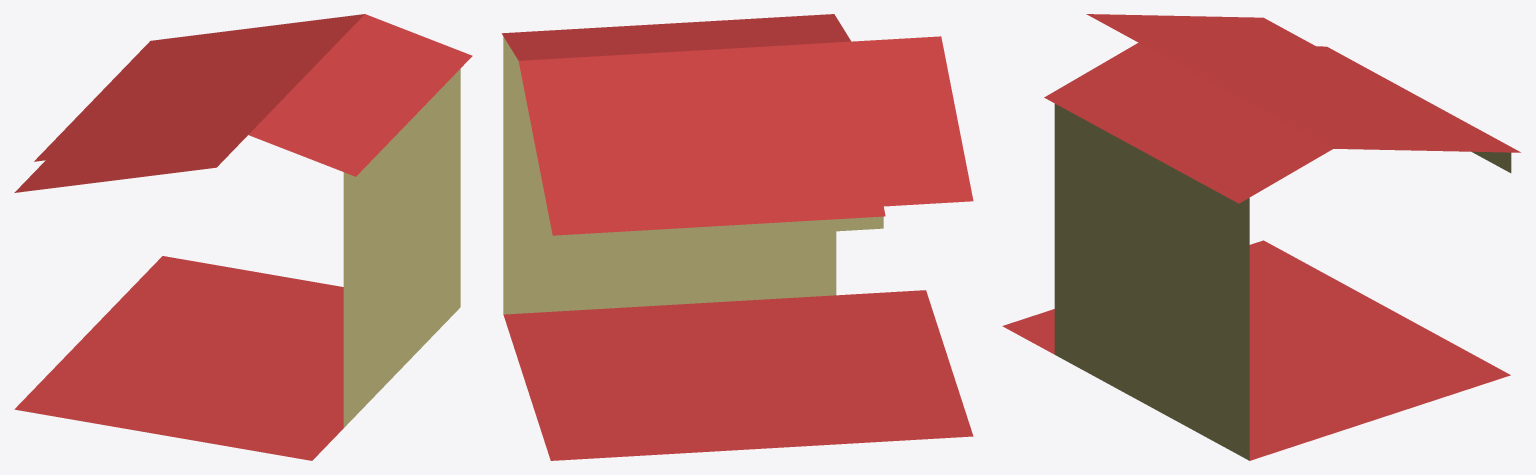
3 renders of one model, left to right at view 1: azimuth 30°, elevation 25°; view 2: azimuth 150°, elevation 25°; view 3: azimuth 270°, elevation 25°, orthographic. The views are drawn at different scales.
Bounding box in the file's own units: 19.62 × 19.23 × 11.62.
